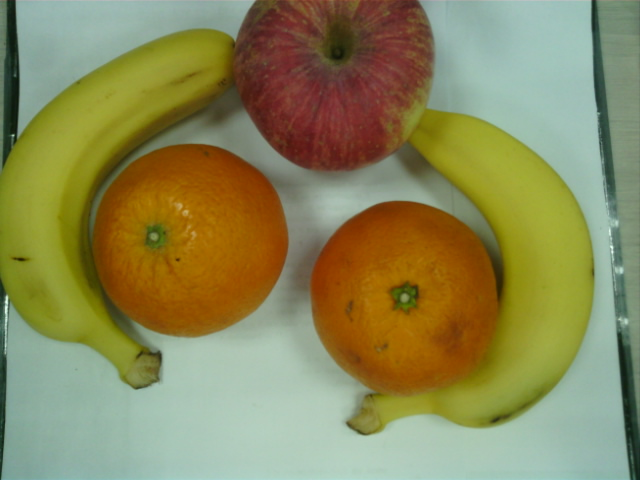normal_apple: (234, 1, 438, 171)
normal_banana: (5, 29, 231, 389), (347, 110, 596, 432)
normal_orange: (94, 143, 288, 339), (312, 199, 499, 399)
